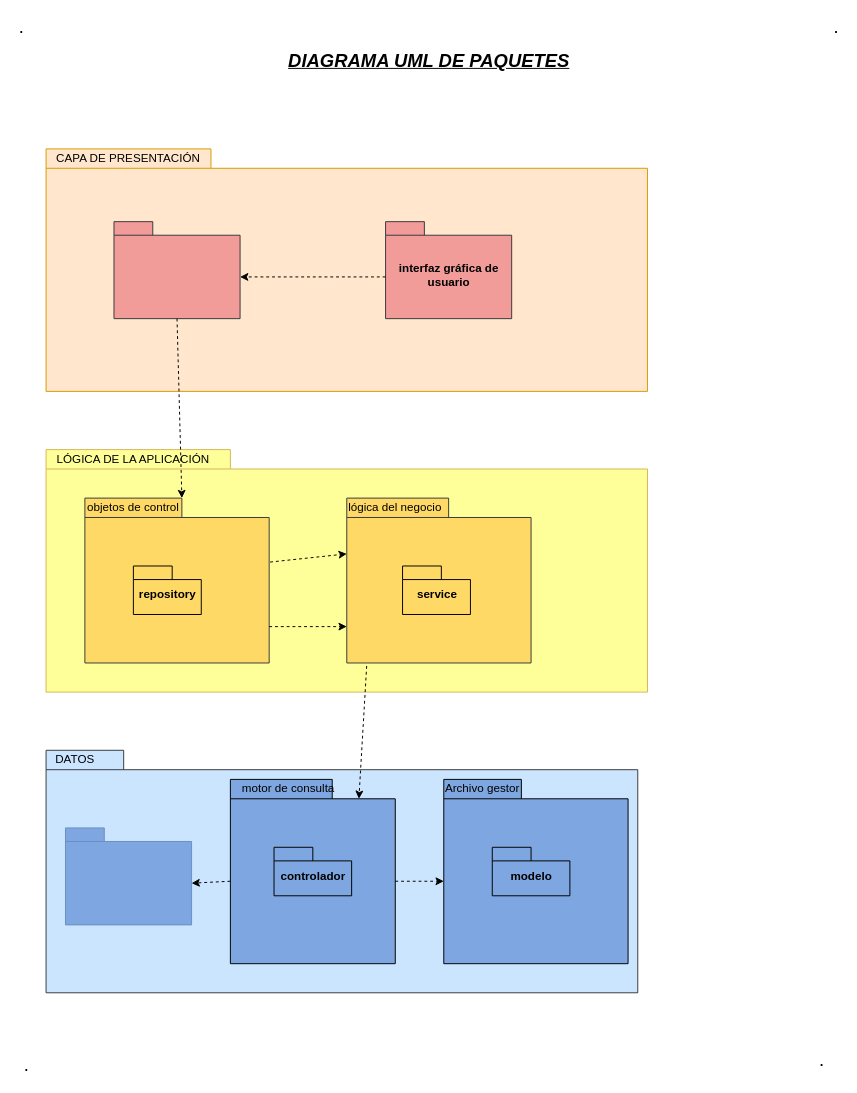
This 857x1093 diagram has some shape labels left out. Here are the shapes that lost their labels. From the top down, the centre of each, then its label:
At (176,270): "vistas".
At (128,876): "SGBD".
